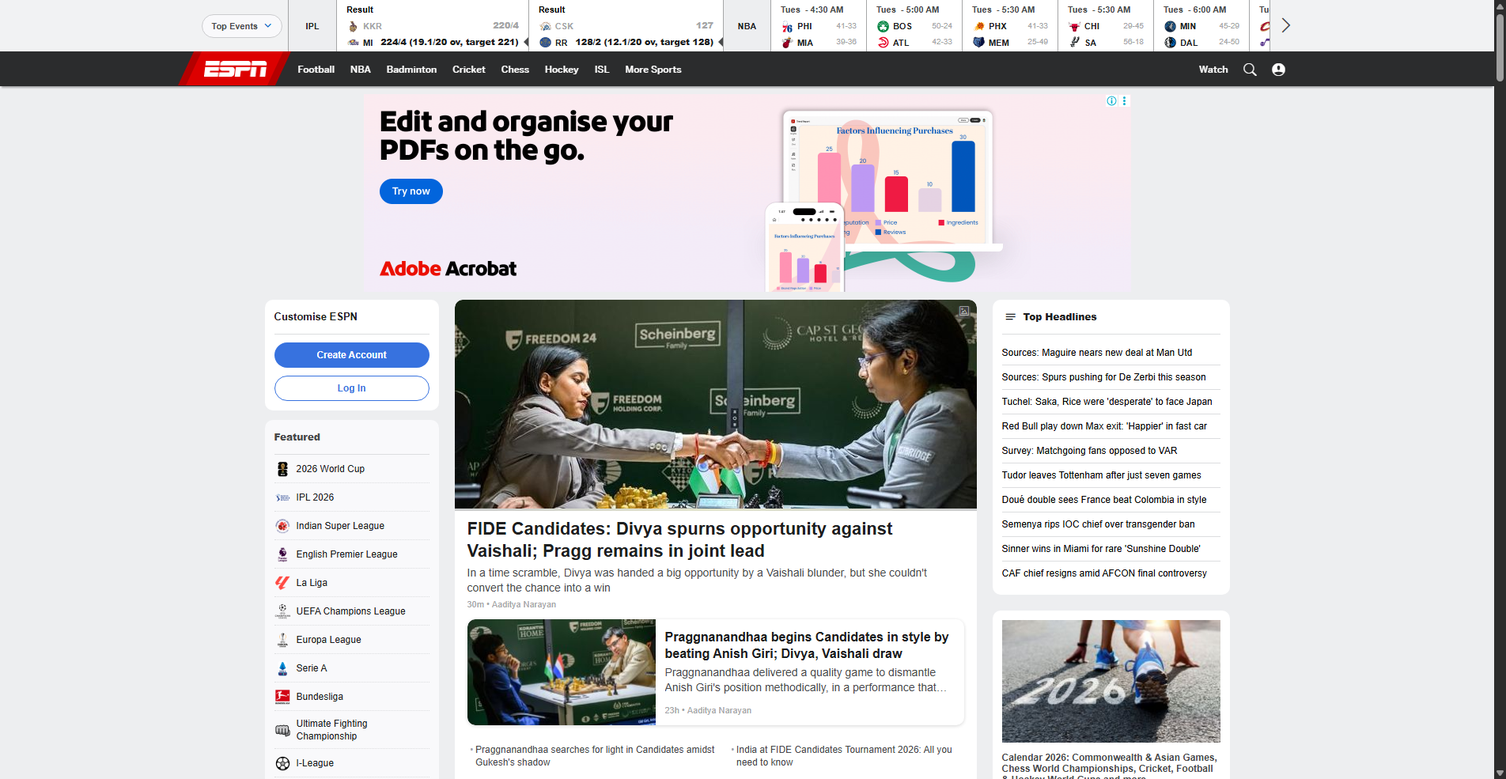button: (0, 0, 1494, 51), (274, 342, 429, 368), (274, 376, 429, 401), (201, 14, 282, 38), (1293, 53, 1321, 85), (1244, 51, 1256, 86)
dropdown: (193, 0, 289, 51), (201, 14, 282, 38)
icon: (274, 461, 290, 477), (274, 518, 290, 534), (274, 546, 290, 562), (274, 575, 290, 591), (274, 603, 290, 619), (274, 632, 290, 648), (274, 660, 290, 676), (274, 689, 290, 705), (274, 722, 290, 738), (274, 755, 290, 771), (274, 490, 290, 505)
input: (1293, 53, 1330, 85)
link: (454, 300, 976, 619), (467, 619, 964, 725), (529, 0, 723, 51), (337, 0, 528, 51), (475, 738, 715, 774), (736, 738, 961, 774), (265, 711, 439, 749), (1002, 752, 1217, 779), (1002, 365, 1220, 390), (1002, 414, 1220, 439), (1002, 463, 1220, 488), (1002, 512, 1220, 537), (1002, 537, 1220, 562), (1002, 341, 1220, 365), (1002, 390, 1220, 414), (1002, 439, 1220, 463), (1002, 488, 1220, 512), (265, 483, 439, 512), (265, 540, 439, 569), (265, 597, 439, 626), (265, 654, 439, 683), (1002, 562, 1220, 585), (265, 455, 439, 483), (265, 512, 439, 540), (265, 569, 439, 597), (265, 626, 439, 654), (265, 683, 439, 711), (265, 749, 439, 777), (771, 0, 866, 51), (867, 0, 962, 51), (1058, 0, 1153, 51), (1154, 0, 1249, 51), (1250, 0, 1345, 51), (1345, 0, 1440, 51), (963, 0, 1057, 51), (1441, 0, 1506, 51), (204, 51, 267, 86), (625, 52, 681, 86), (387, 52, 437, 86), (298, 52, 335, 86), (475, 774, 715, 779), (545, 52, 579, 86), (453, 52, 486, 86), (1199, 52, 1228, 86), (501, 52, 529, 86), (350, 52, 371, 86), (595, 52, 609, 86), (265, 777, 439, 779)
